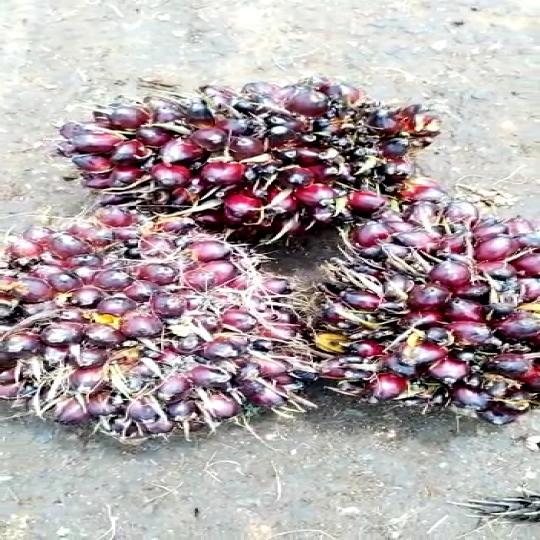kurang masak: (0, 202, 322, 446), (75, 60, 487, 250), (258, 196, 540, 449)
